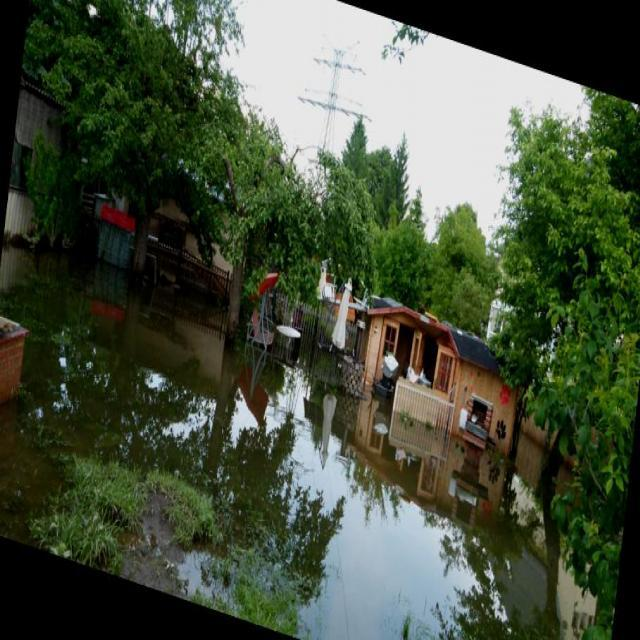flood: (8, 271, 531, 639)
